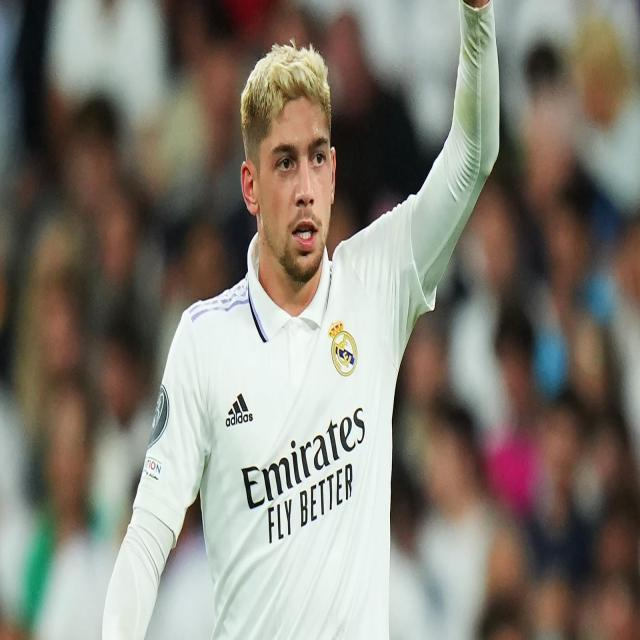Adidas: (225, 392, 253, 428)
Emirates: (239, 402, 366, 512)
